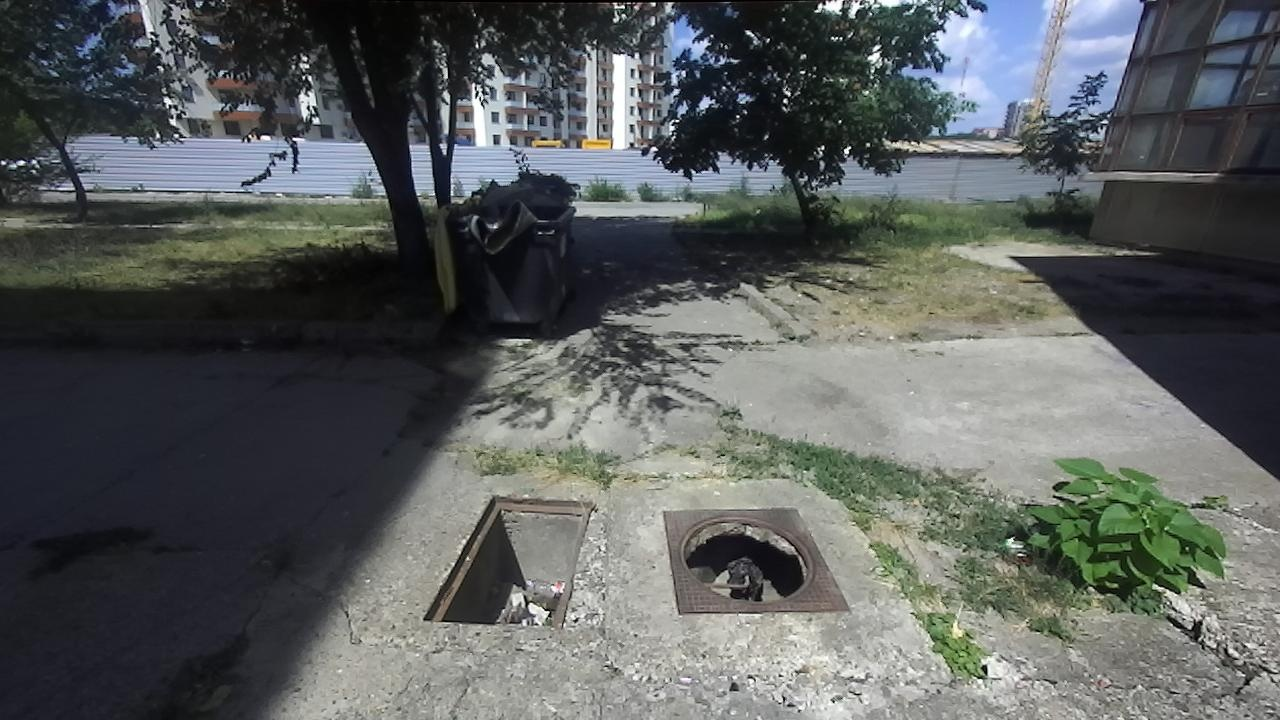drain: (419, 492, 599, 628), (678, 513, 823, 607)
